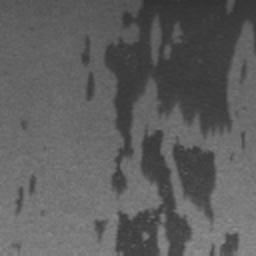Red iron sheet: (93, 0, 256, 256), (14, 174, 37, 216), (81, 36, 95, 101), (210, 233, 238, 256), (20, 119, 27, 129)
